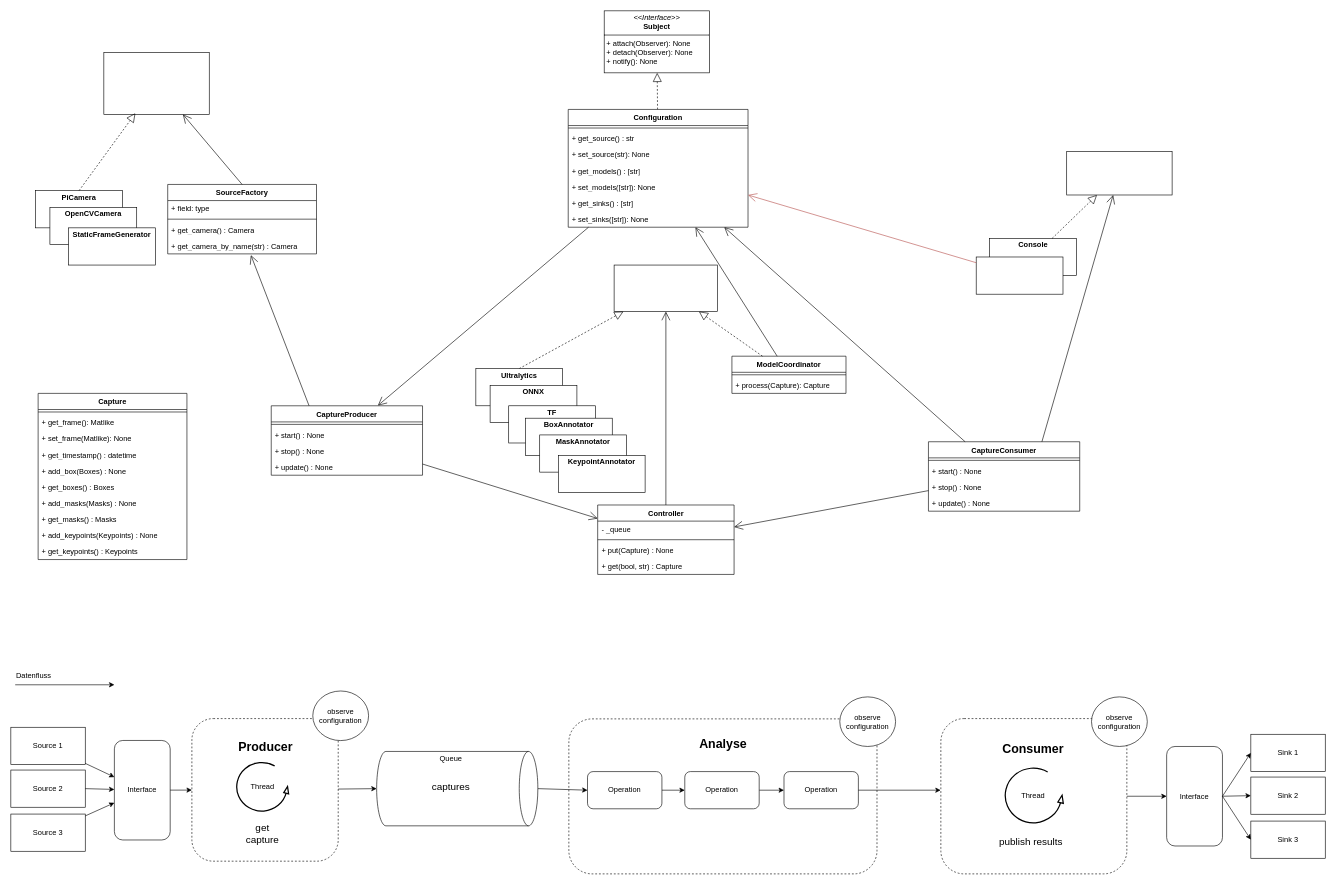
This 1336x885 diagram has some shape labels left out. The shapes that lost their labels are listed below. From the top down, each one's centre as x and y in pixels, then its label:
point (156, 83): <<Interface>> Source + get_frame(): Frame + get_name(): str + release() : None
point (1119, 173): <<Interface>> Sink +put(Capture) : None
point (665, 288): <<Interface>> Operation + process(Capture): Capture
point (1019, 275): Webserver
